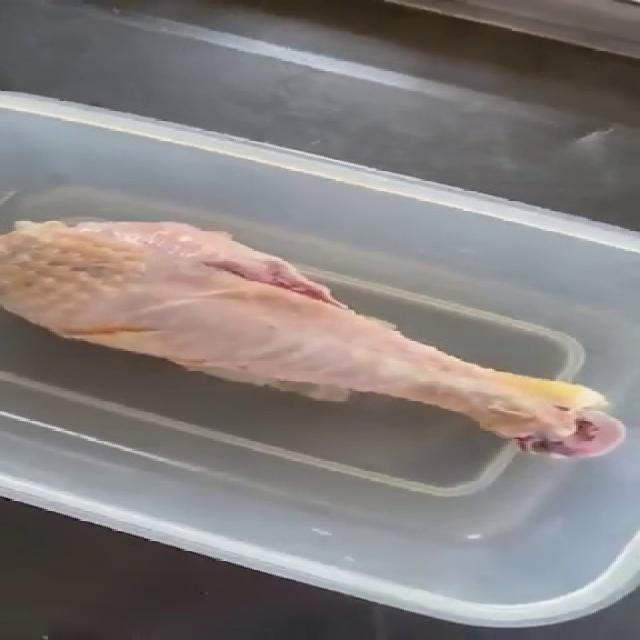chicken: (0, 216, 626, 460)
